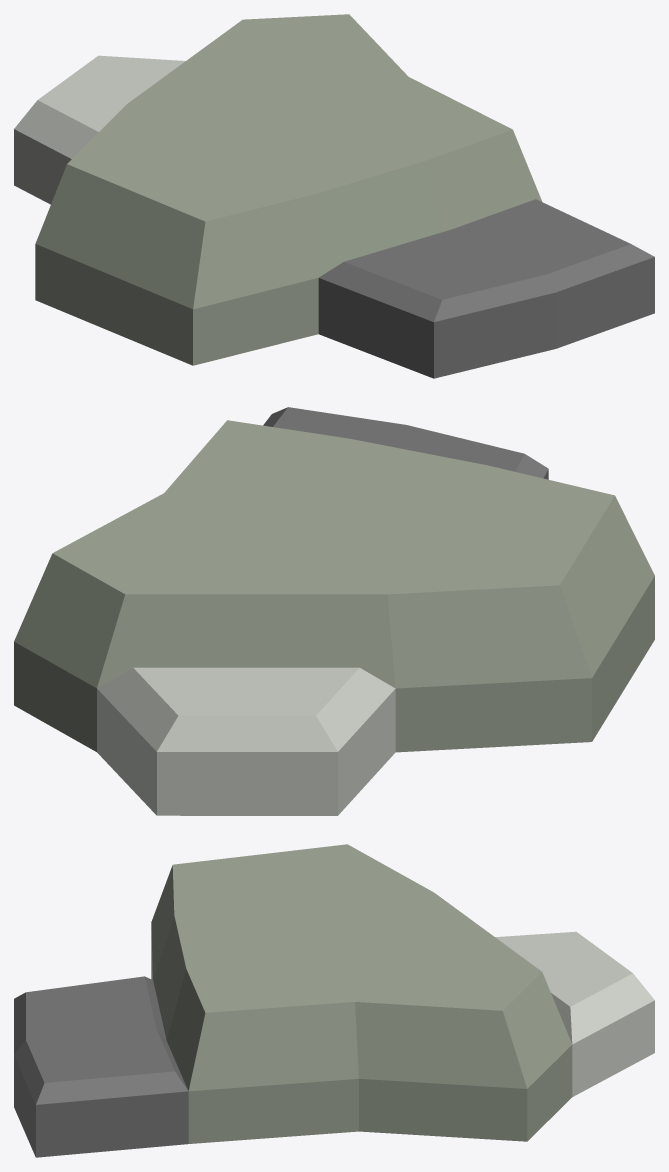
The model's file is rock-type4-03-green.glb.
3 renders of one model, top to bottom at view 1: azimuth 30°, elevation 25°; view 2: azimuth 150°, elevation 25°; view 3: azimuth 270°, elevation 25°, orthographic. The views are drawn at different scales.
Parts seen in each view (by area): view 1: Rock_Type4_03_mesh; view 2: Rock_Type4_03_mesh; view 3: Rock_Type4_03_mesh.
Part boxes in pixels (x1,y1,x2,y2): Rock_Type4_03_mesh: [14, 14, 654, 378]; Rock_Type4_03_mesh: [14, 407, 654, 815]; Rock_Type4_03_mesh: [14, 844, 654, 1157].
Size of the model in its own units: 1.52 by 0.4176 by 2.
Materials: 1 (1 with a texture image).
